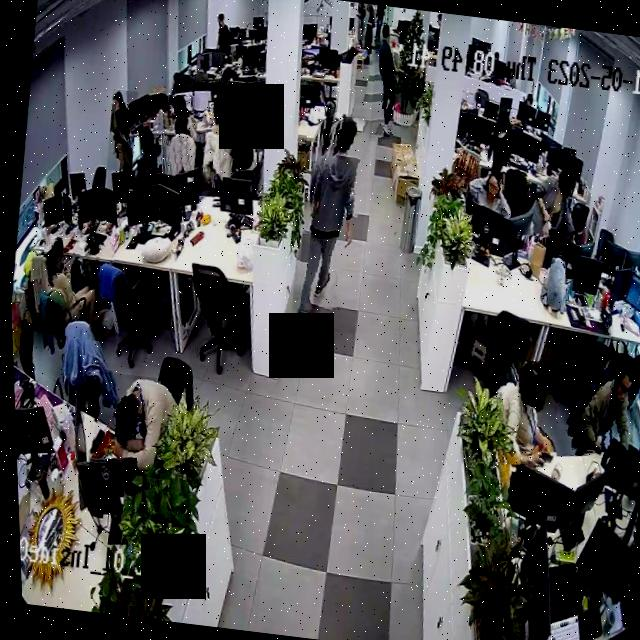person: (281, 110, 378, 334), (83, 371, 178, 480), (481, 356, 561, 468), (30, 236, 114, 341), (567, 353, 640, 463), (518, 162, 580, 242), (364, 24, 404, 140), (192, 100, 239, 193), (156, 94, 202, 178), (102, 89, 140, 172), (466, 167, 514, 218), (211, 11, 233, 56)
